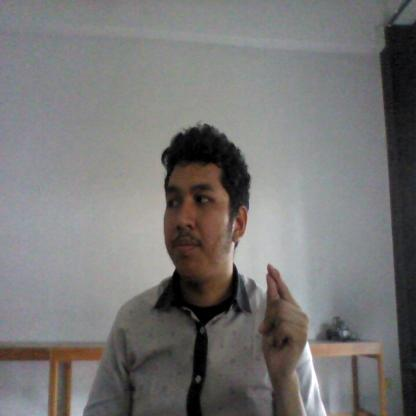R: (245, 260, 319, 386)
